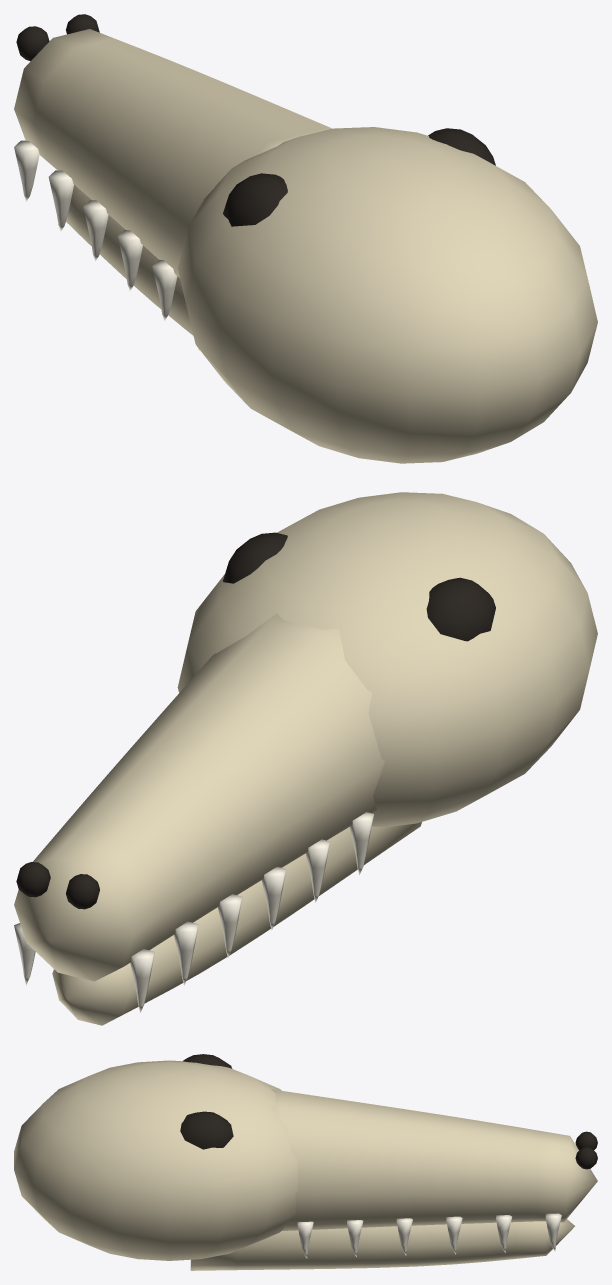
The model's file is GatorSkull.fbx.
3 views of the same model, one above another, from view 1: azimuth 30°, elevation 25°; view 2: azimuth 150°, elevation 25°; view 3: azimuth 270°, elevation 25° (orthographic). The views are drawn at different scales.
Parts seen in each view (by area): view 1: GatorSkull; view 2: GatorSkull; view 3: GatorSkull.
Part boxes in pixels (<box>): GatorSkull: <box>14,14,597,463</box>; GatorSkull: <box>14,492,597,1025</box>; GatorSkull: <box>14,1054,597,1270</box>.
Bounding box in the file's own units: 110 × 93.01 × 259.
1 material, 1 textured.
